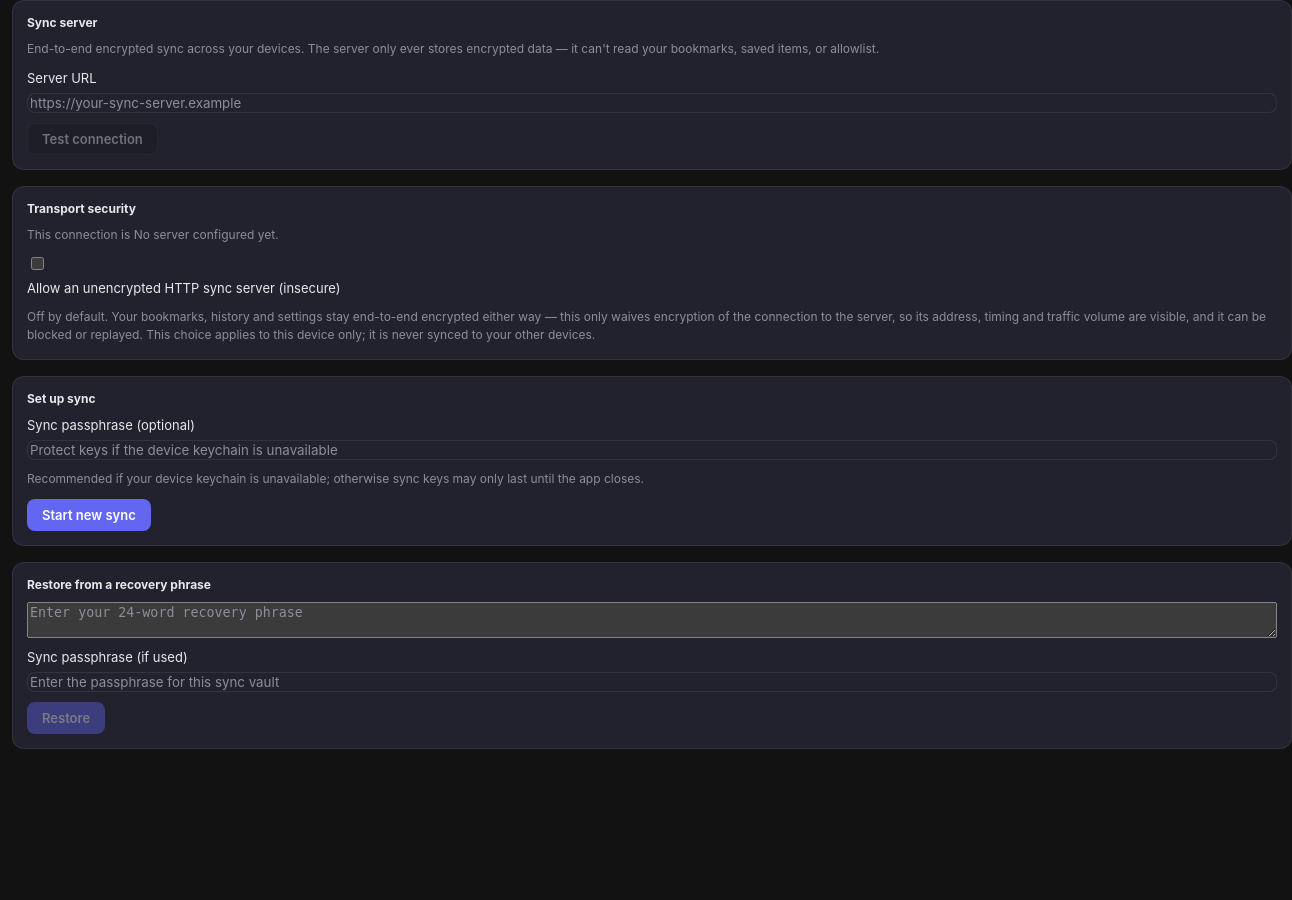
Scenario: SyncSettingsTab › disabled: "Start new sync" enables and shows the recovery phrase once
Click the button "Start new sync" at (89, 514), box [27, 498, 151, 530]
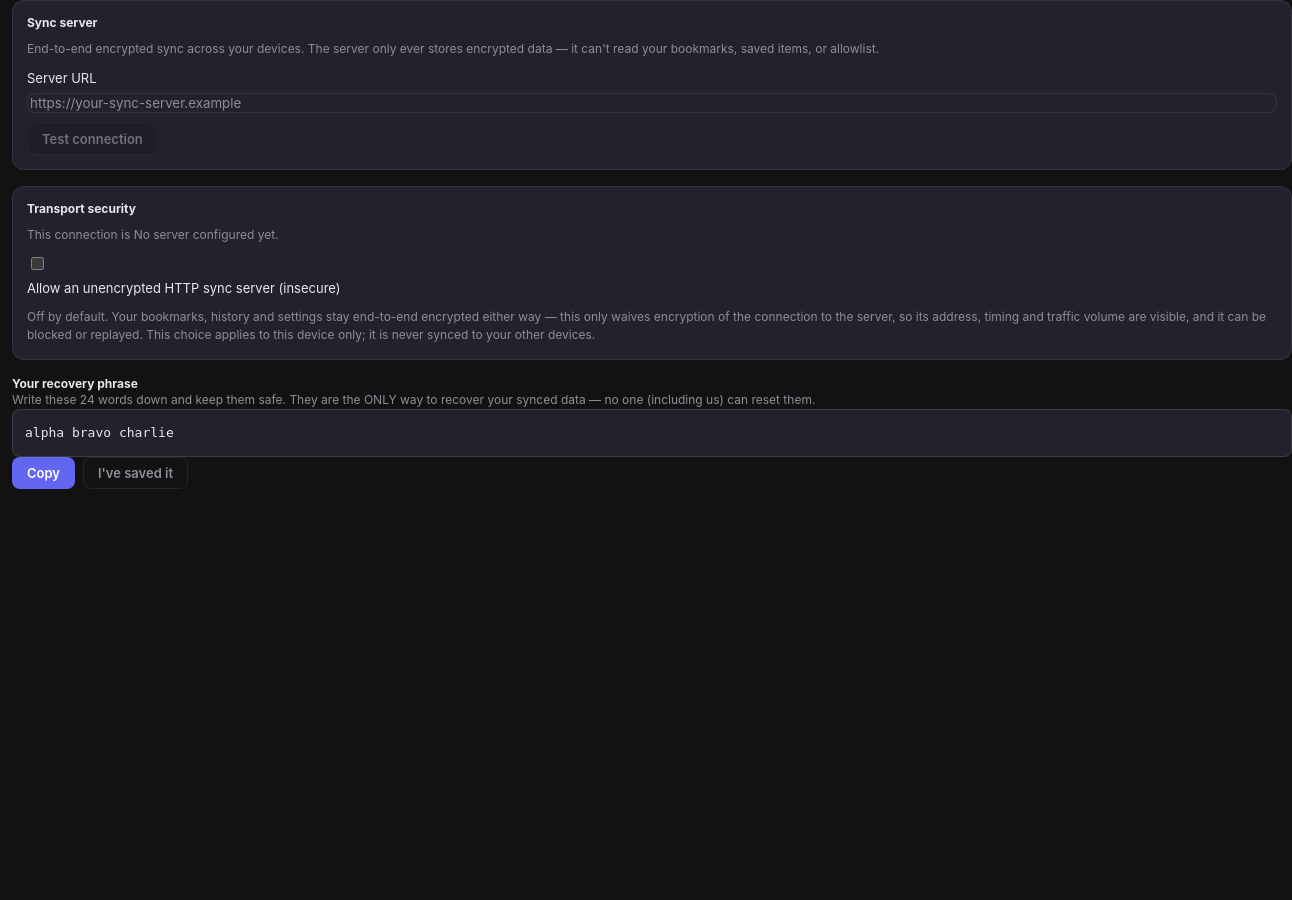
Now the text "alpha bravo charlie" is shown, box [12, 409, 1291, 457]
// Dismissing the phrase hides it.
Click the button "I've saved it" at (136, 473), box [83, 457, 188, 489]
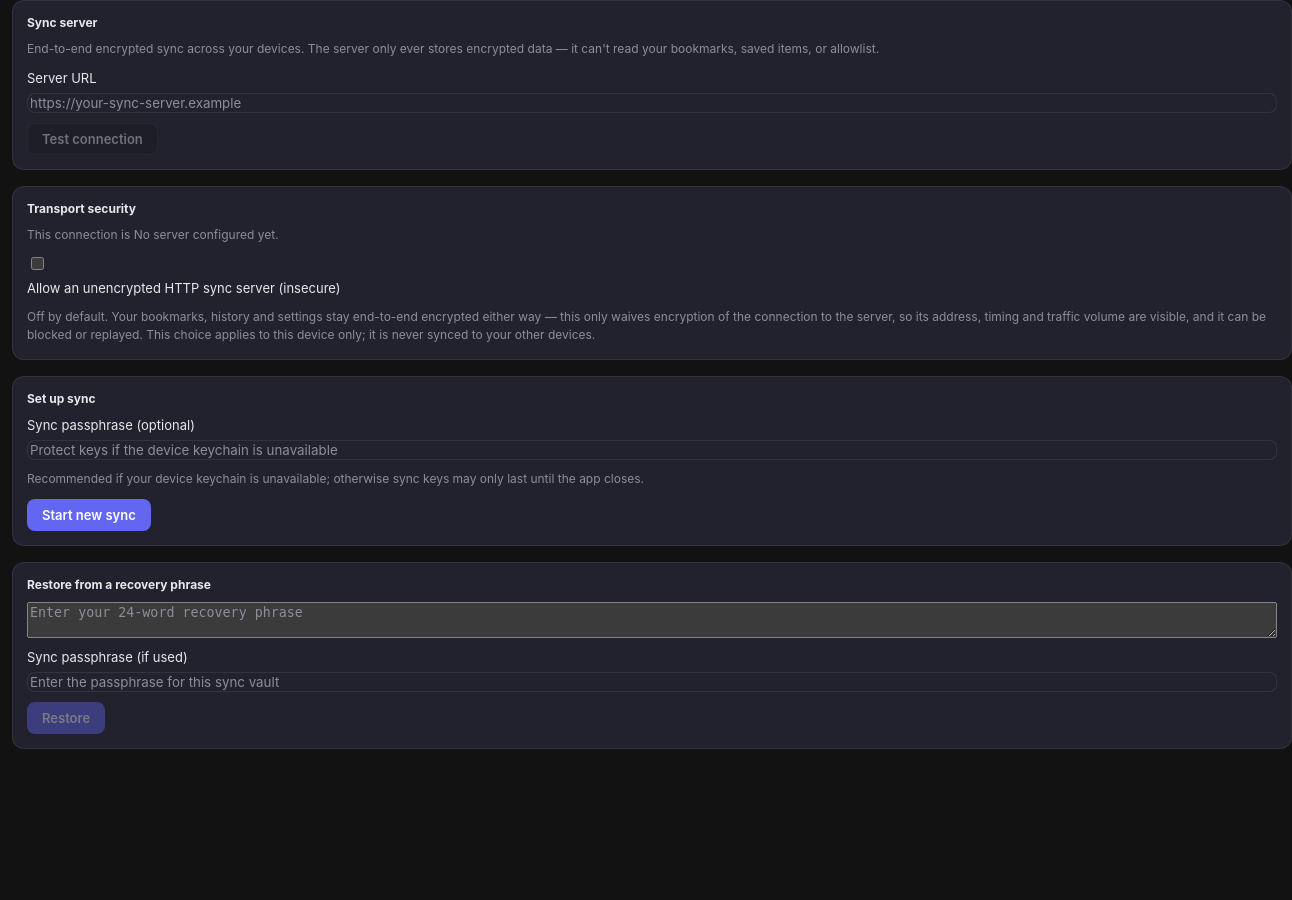
Now the text "alpha bravo charlie" is gone
